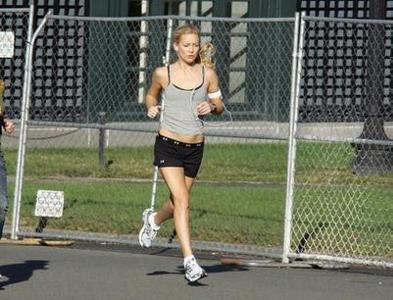person: (137, 24, 225, 284)
